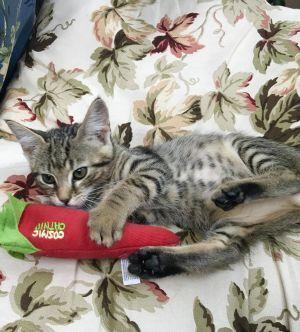bengal: (5, 95, 123, 219)
